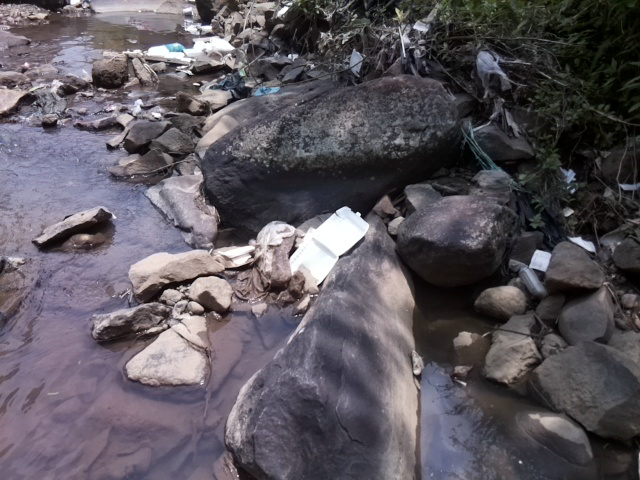Sampah_Plastik: (166, 41, 184, 52)
Sampah_Styrofoam: (284, 204, 371, 289)
